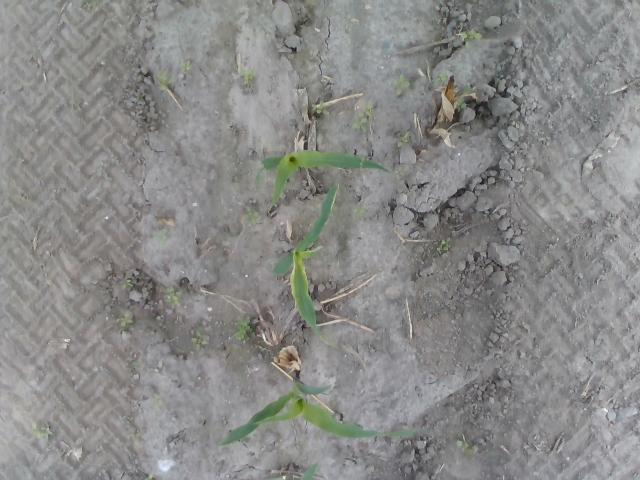Maize: (215, 368, 430, 448), (269, 182, 339, 348), (255, 149, 391, 207), (278, 464, 320, 480)
Weeds: (351, 98, 371, 132), (236, 319, 254, 343), (160, 287, 183, 305), (191, 329, 209, 351), (456, 440, 479, 457), (157, 72, 175, 92), (391, 72, 412, 88), (117, 311, 134, 330), (239, 67, 255, 87), (242, 205, 258, 224), (456, 28, 481, 40), (436, 239, 449, 257), (126, 432, 142, 446), (32, 425, 49, 438), (456, 96, 468, 112), (152, 392, 164, 406), (352, 206, 367, 216), (392, 168, 404, 180), (156, 228, 168, 240), (310, 102, 322, 114), (400, 133, 410, 145), (122, 280, 134, 289), (438, 74, 449, 83), (182, 63, 192, 72), (142, 473, 154, 480), (463, 84, 472, 90)
